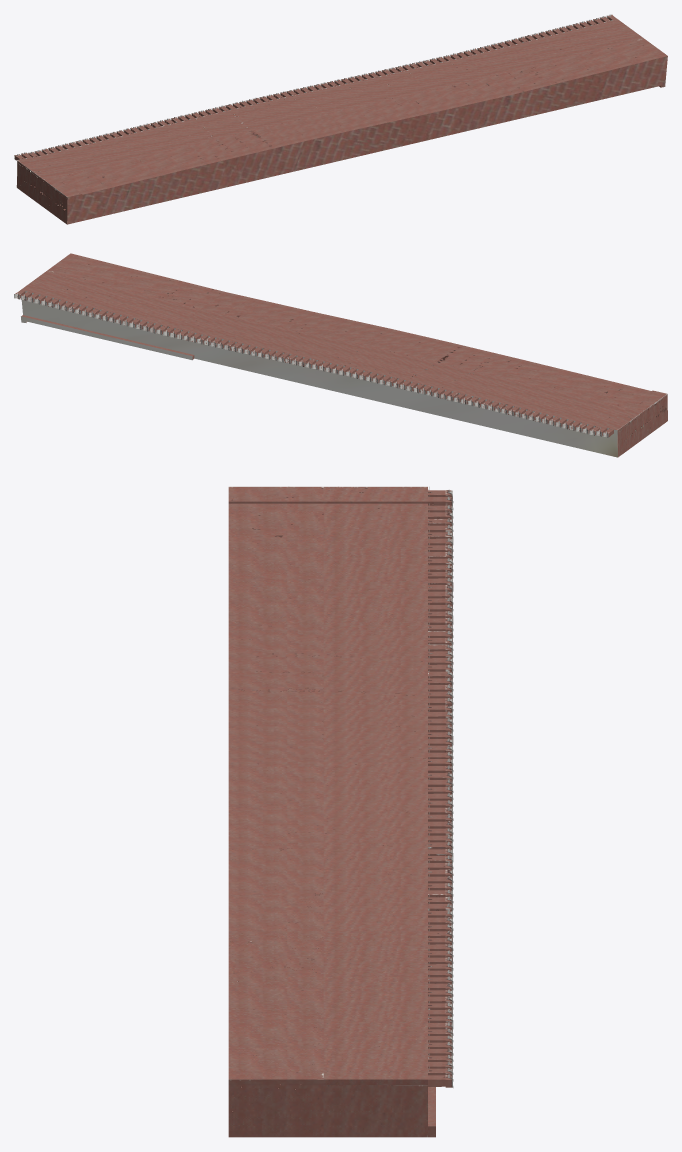
File: k_stena.fbx
3 renders of one model, top to bottom at view 1: azimuth 30°, elevation 25°; view 2: azimuth 150°, elevation 25°; view 3: azimuth 270°, elevation 25°, orthographic. The views are drawn at different scales.
Visible parts, largest first — view 1: Group_623.001; view 2: Group_623.001; view 3: Group_623.001.
Boxes of the visible parts, left/top/right/bottom form: Group_623.001: left=14, top=14, right=667, bottom=224; Group_623.001: left=14, top=253, right=667, bottom=457; Group_623.001: left=228, top=486, right=453, bottom=1137.
Size of the model in its own units: 13099 by 771 by 2132.
Materials: 1 (1 with a texture image).
